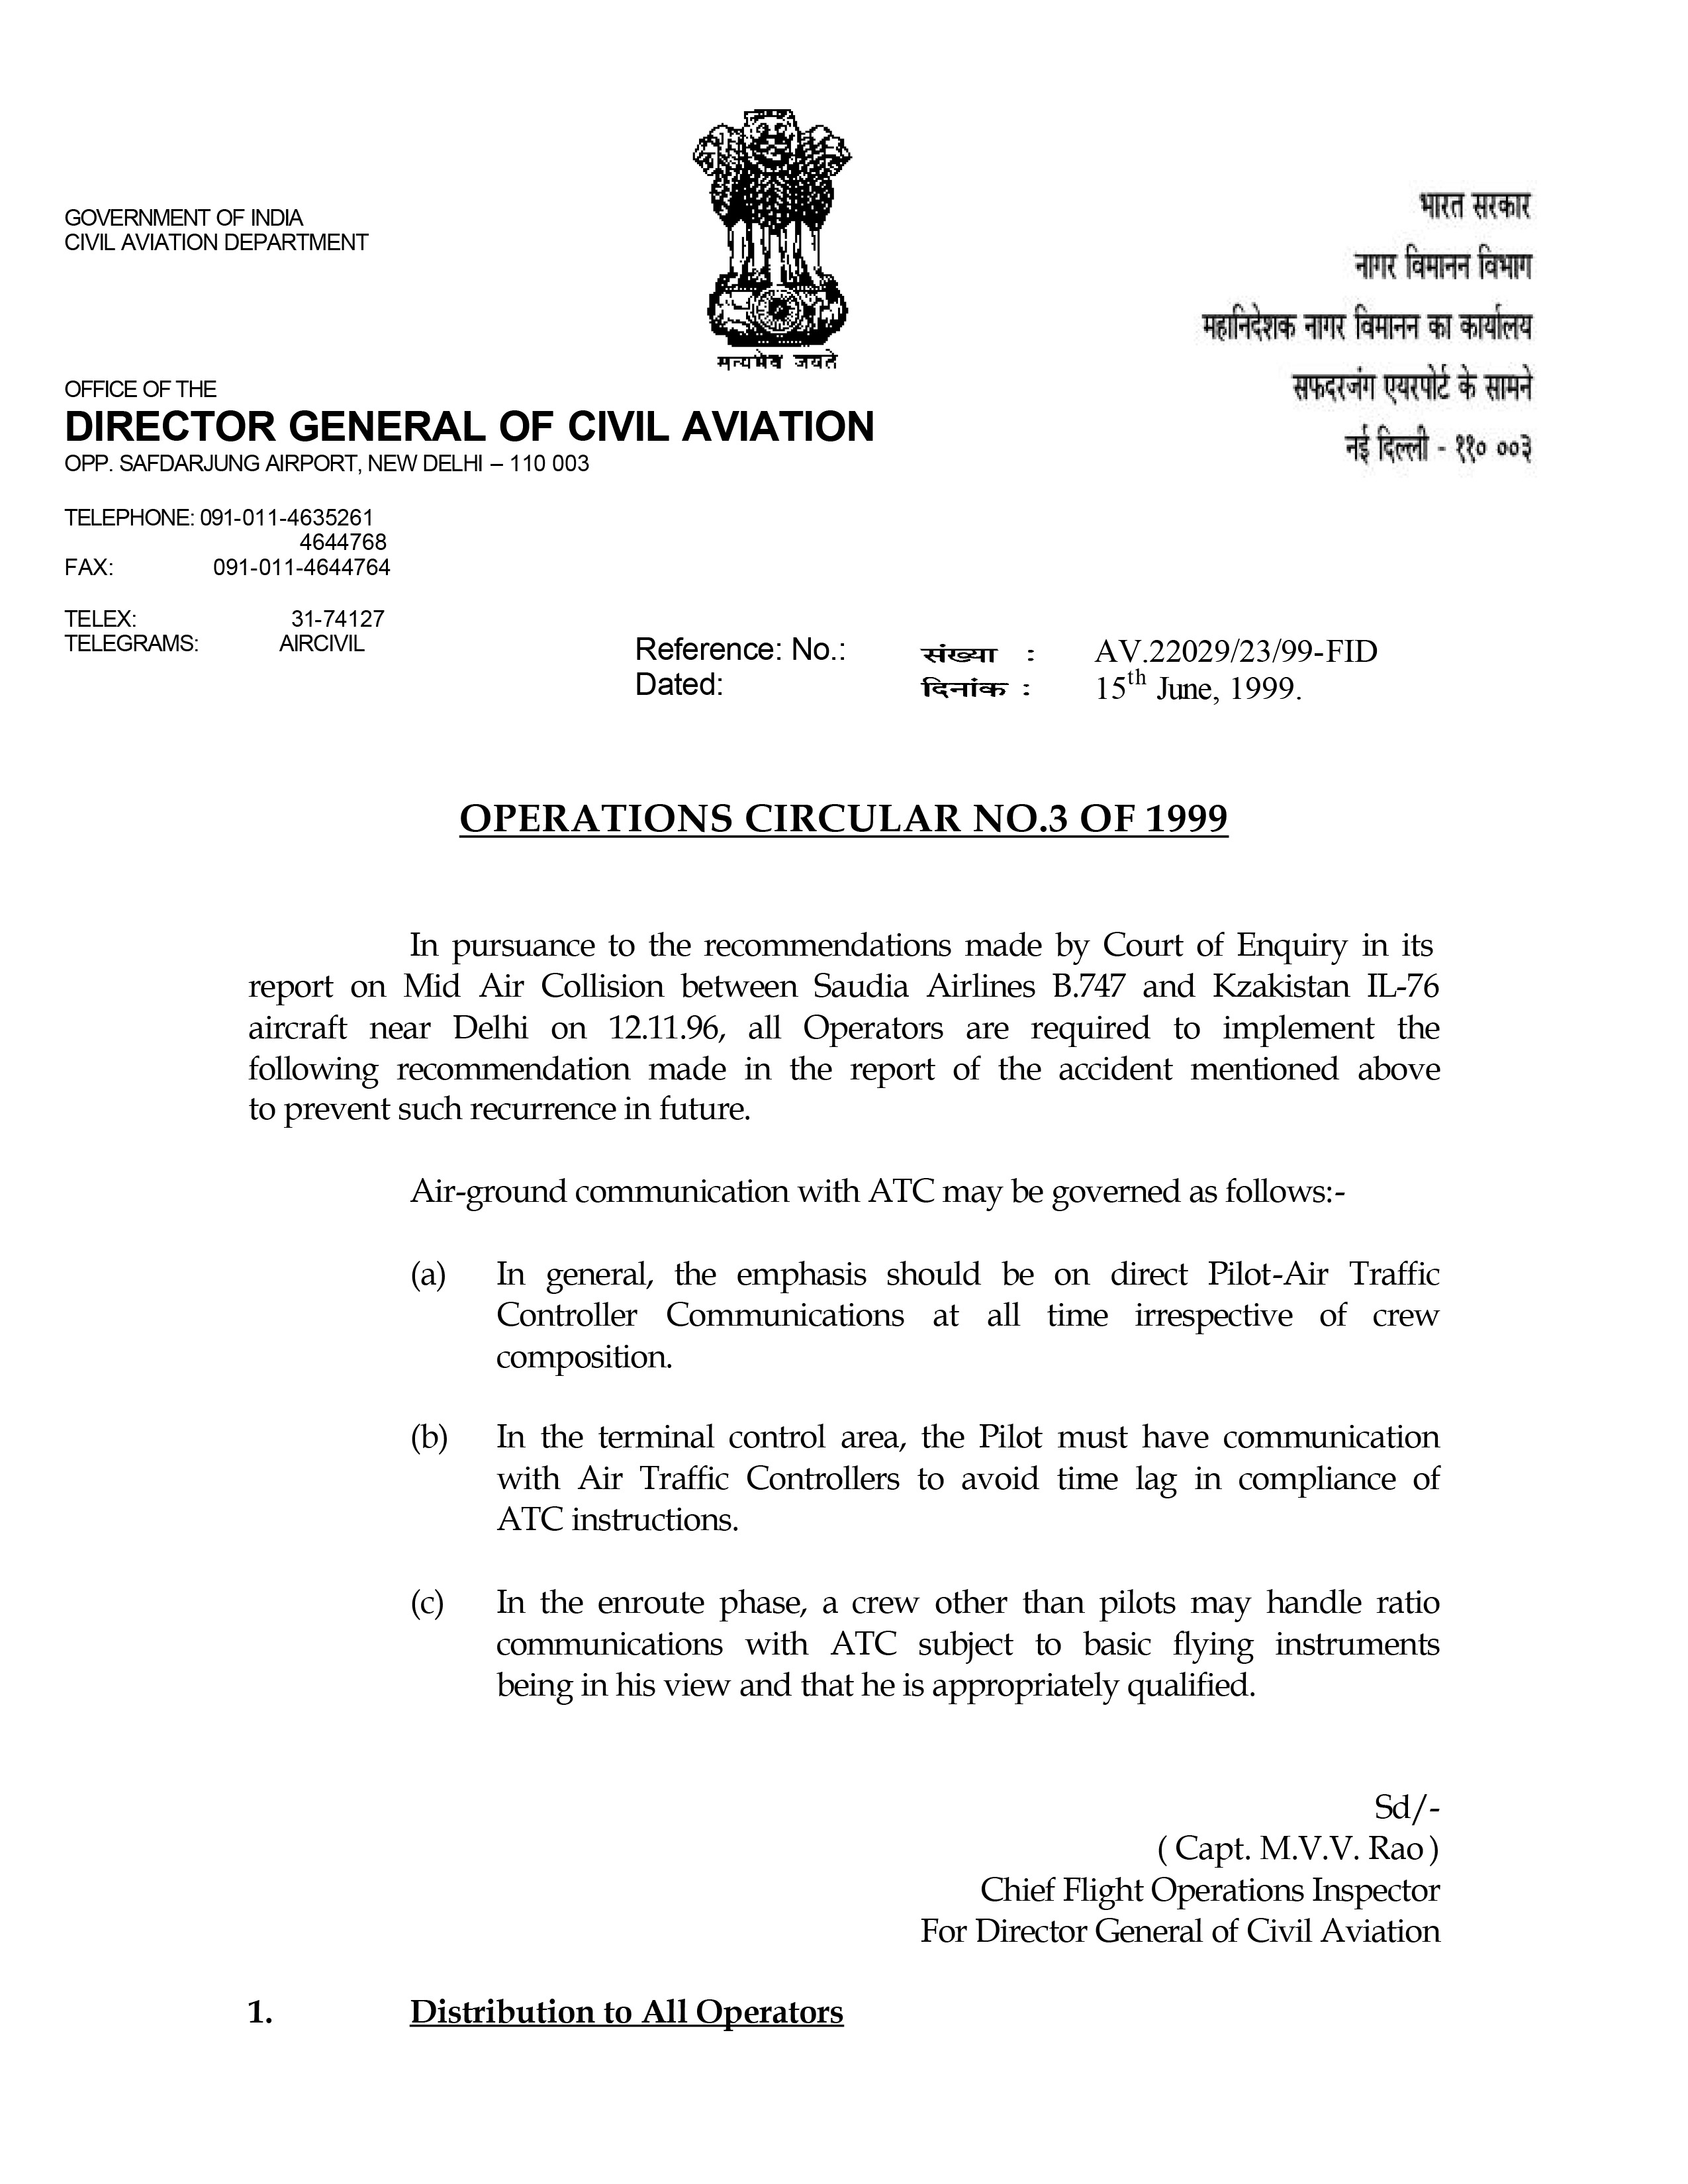figure: (672, 103, 865, 383)
list: (390, 1259, 1452, 1732)
section: (53, 383, 872, 473), (413, 792, 1266, 856), (227, 1978, 879, 2051)
text: (250, 906, 1449, 1145), (1195, 167, 1559, 486), (903, 1782, 1445, 1971), (629, 617, 1403, 727), (37, 486, 429, 668), (399, 1165, 1351, 1218), (39, 209, 397, 262)
